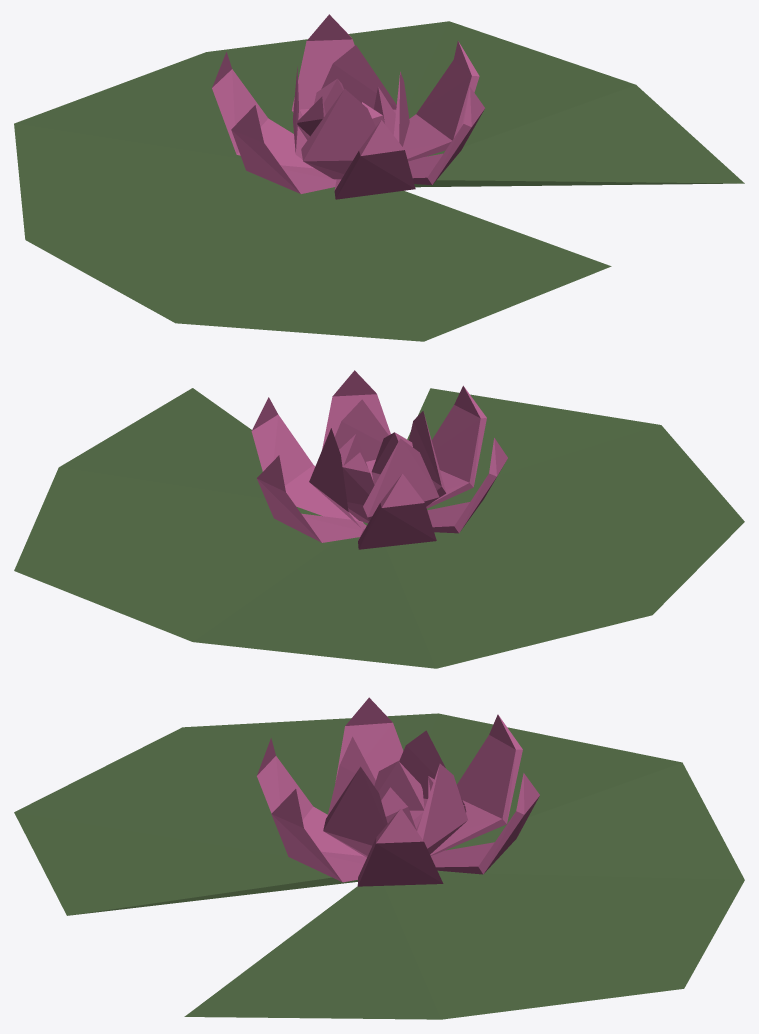
Rendered from Lilypad.lod1.glb.
3 views of the same model, one above another, from view 1: azimuth 30°, elevation 25°; view 2: azimuth 150°, elevation 25°; view 3: azimuth 270°, elevation 25° (orthographic). The views are drawn at different scales.
Visible parts, largest first — view 1: Lilypad; view 2: Lilypad; view 3: Lilypad.
Part boxes in pixels (left/top/right/bottom): Lilypad: left=14, top=14, right=744, bottom=341; Lilypad: left=14, top=370, right=744, bottom=668; Lilypad: left=14, top=697, right=744, bottom=1019.
Size of the model in its own units: 1.2 by 0.2203 by 1.19.
